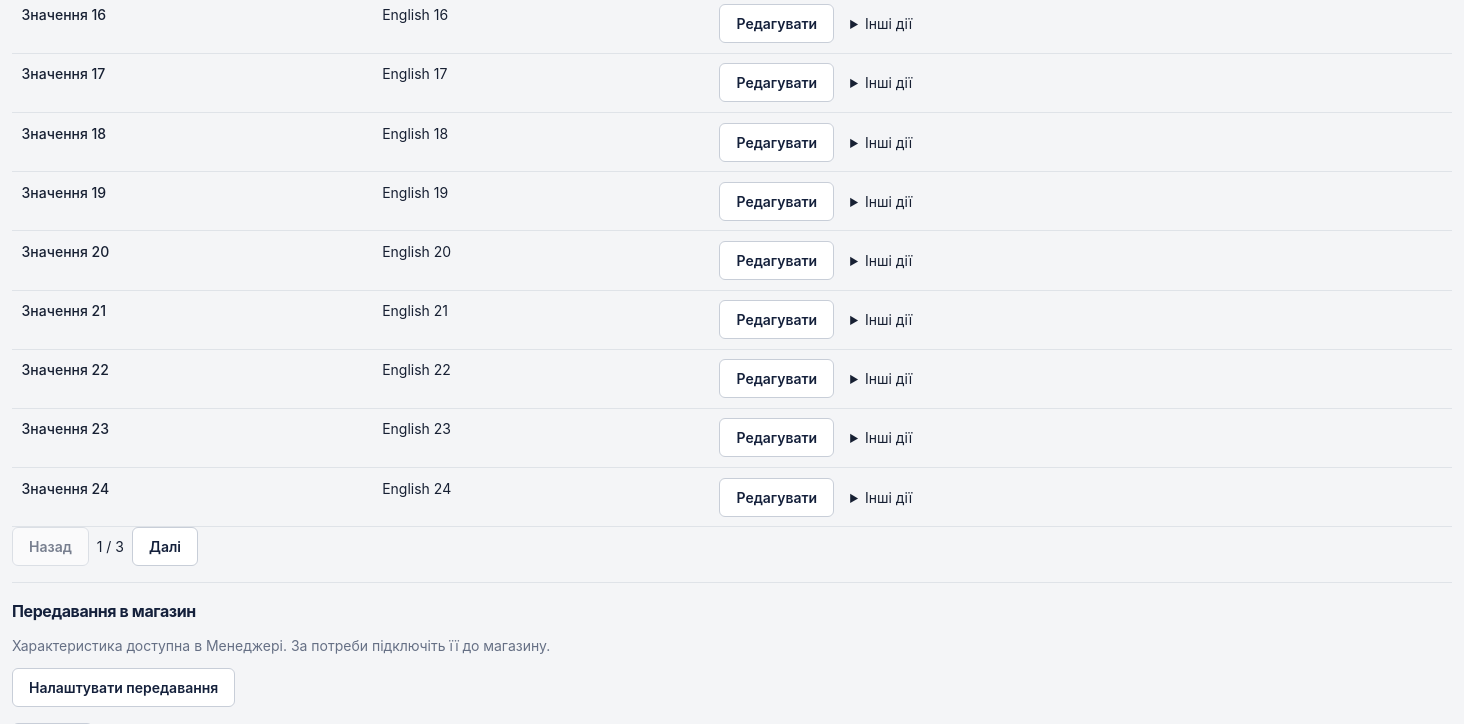
Test: pages and searches values by either language while editing the exact selected row
This screenshot has width=1464, height=724.
(page scrolled)
Click the button "Далі" at (165, 547), box x1=132 y1=527 x2=198 y2=566
(page scrolled)
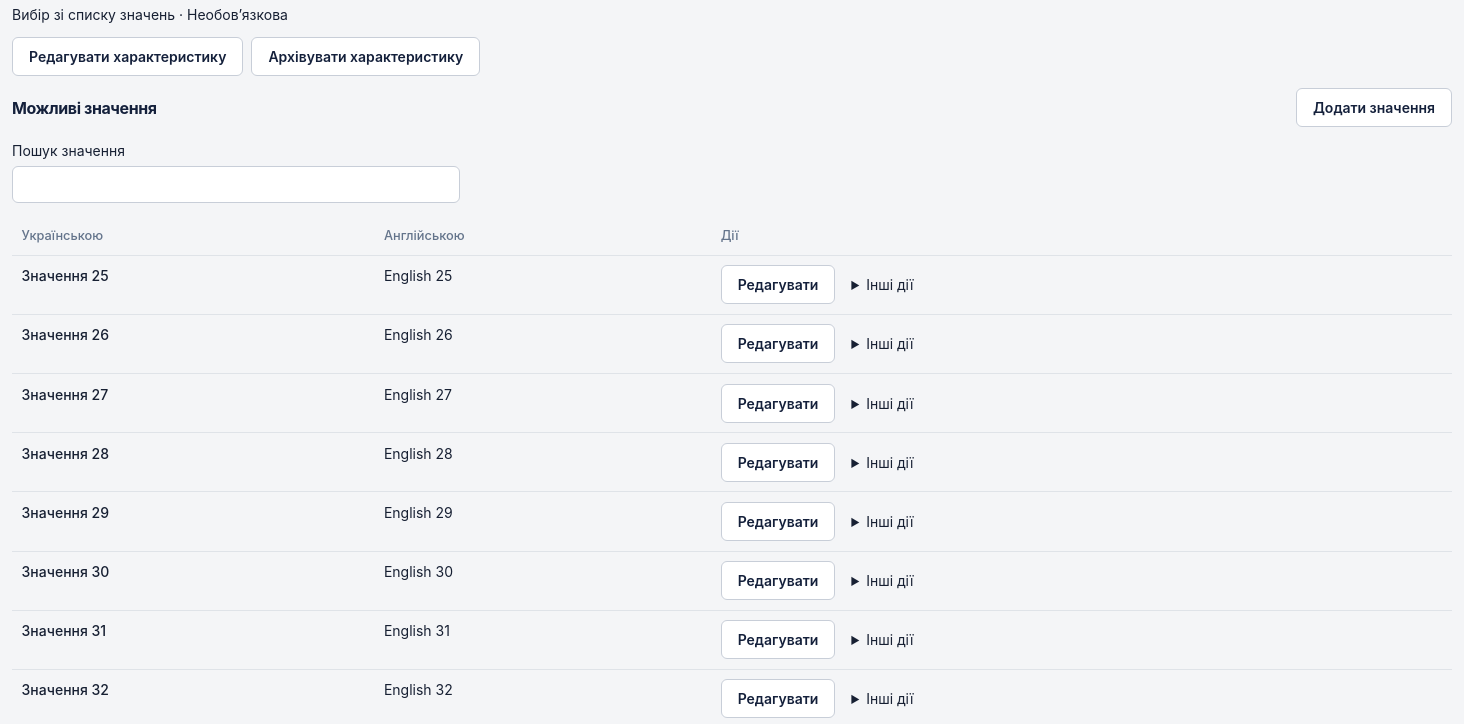
Result: the button with aria-label "Редагувати Значення 25" is shown at x1=721 y1=265 x2=835 y2=304
Type "English 51" into the search field labelled "Пошук значення" at (236, 185), box x1=12 y1=166 x2=460 y2=203
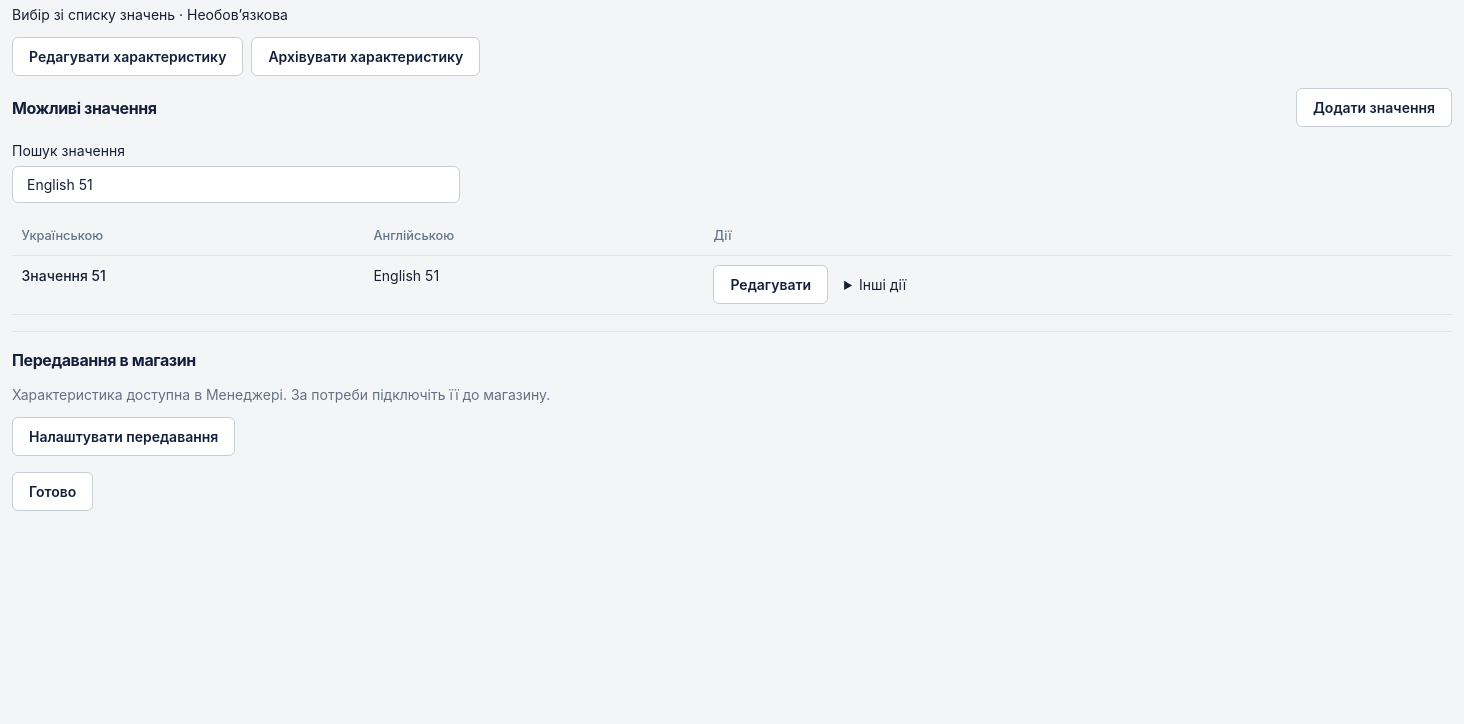
Click the button with aria-label "Редагувати Значення 51" at (771, 285), box x1=713 y1=265 x2=828 y2=304
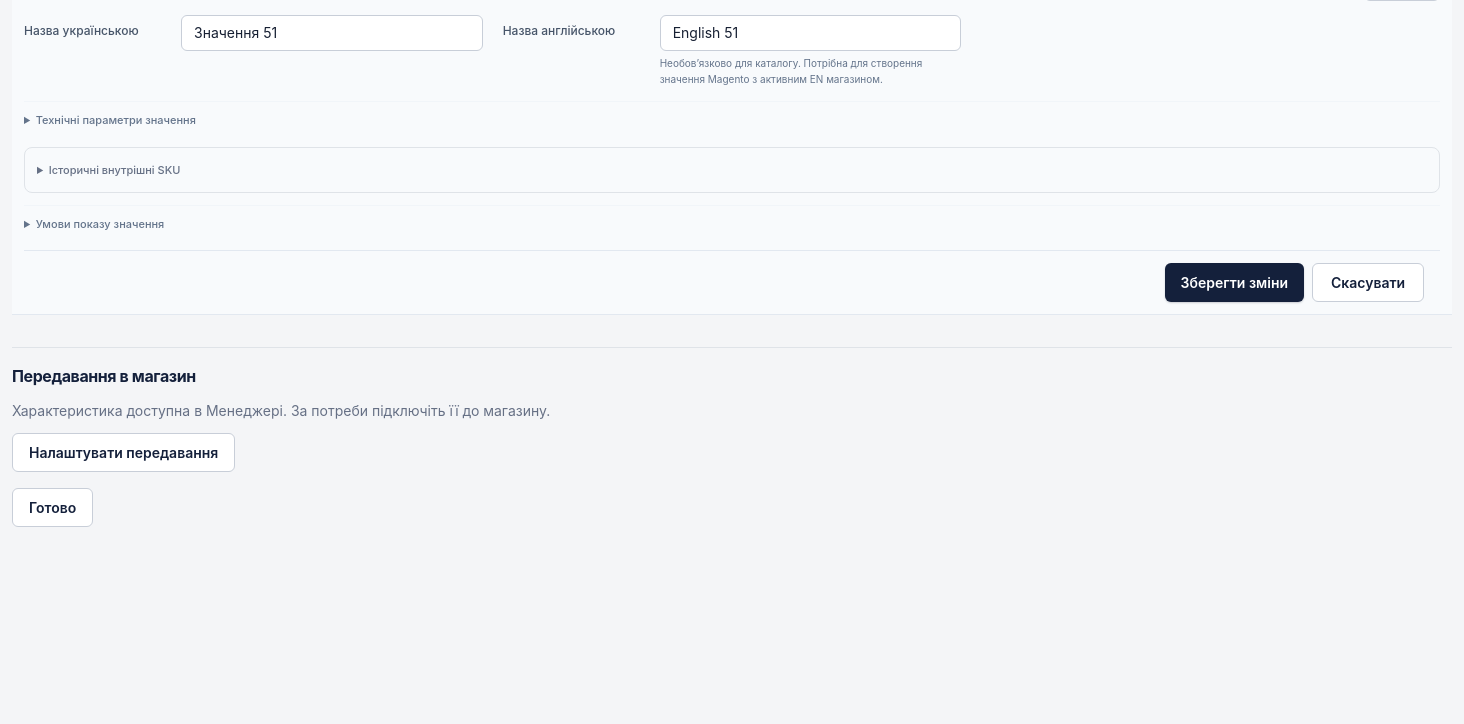
Result: the field labelled "Назва українською" holds "Значення 51" at x1=181 y1=15 x2=483 y2=51
